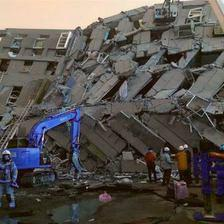Destroyed_Building: (0, 0, 224, 195)
